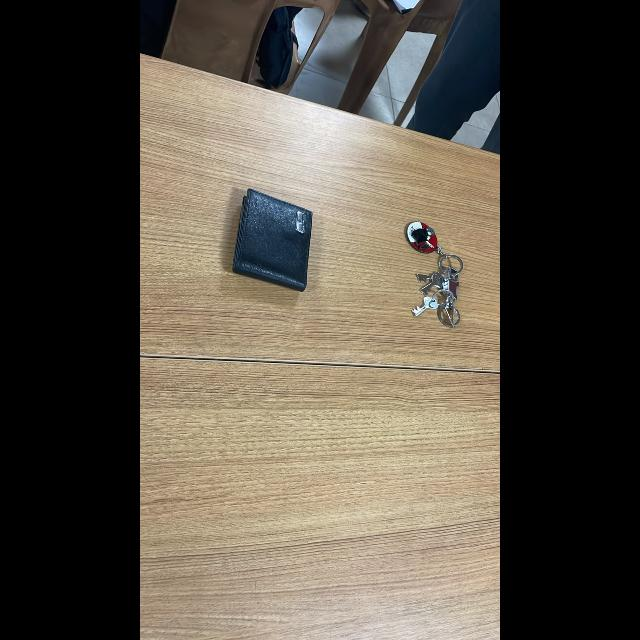keys: (397, 192, 475, 352)
wallet: (228, 172, 324, 304)
